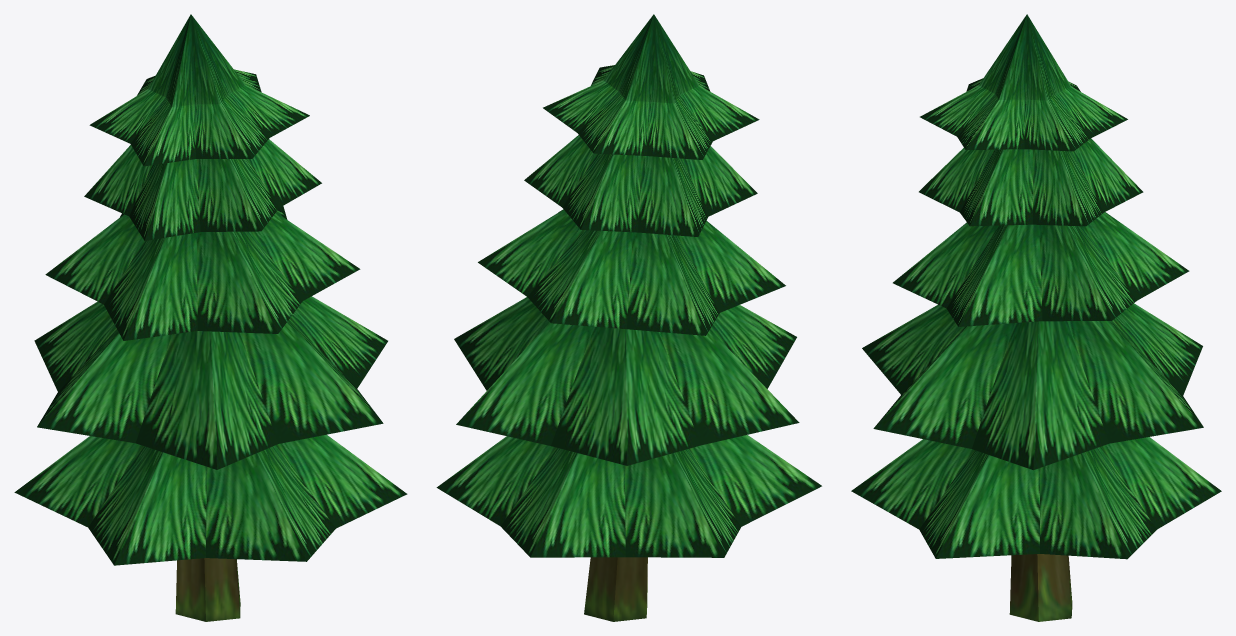
The model's file is Stage_ZhuCheng_ShuMu03.FBX.
The picture shows the model from 3 angles, left to right: view 1: azimuth 30°, elevation 25°; view 2: azimuth 150°, elevation 25°; view 3: azimuth 270°, elevation 25°; orthographic projection. The views are drawn at different scales.
Parts seen in each view (by area): view 1: Stage_ZhuCheng_ShuMu03; view 2: Stage_ZhuCheng_ShuMu03; view 3: Stage_ZhuCheng_ShuMu03.
Boxes of the visible parts, x1=… form: Stage_ZhuCheng_ShuMu03: x1=14, y1=14, x2=407, y2=621; Stage_ZhuCheng_ShuMu03: x1=436, y1=14, x2=821, y2=621; Stage_ZhuCheng_ShuMu03: x1=851, y1=14, x2=1221, y2=621.
Size of the model in its own units: 171 by 281 by 163.
